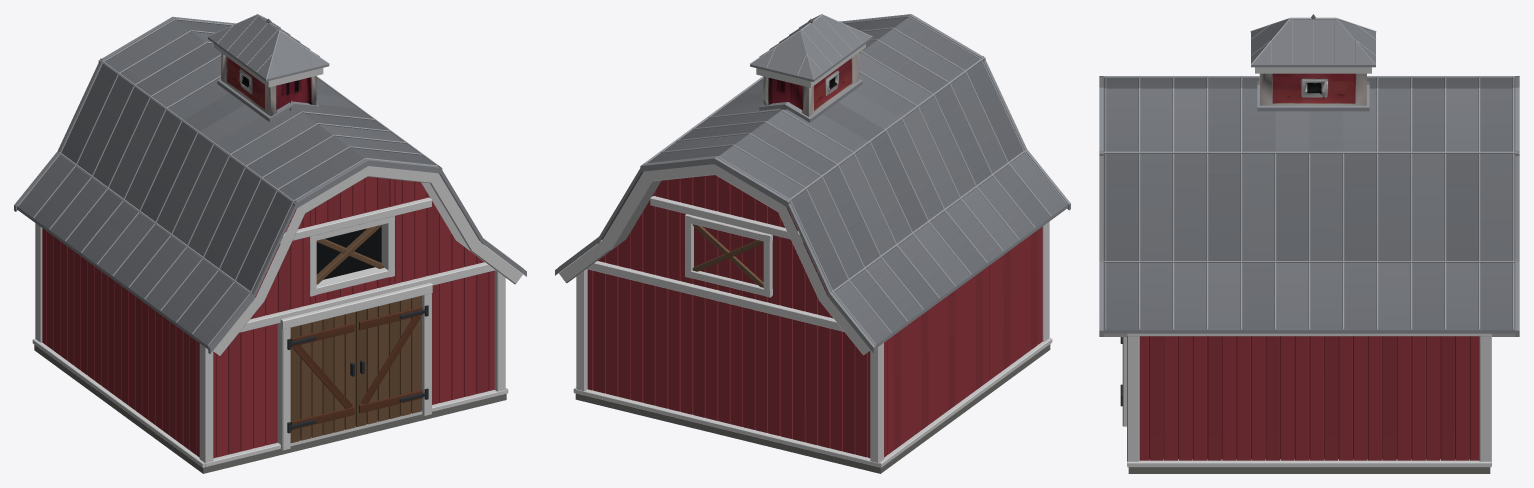
File: barn-crafted.glb
The picture shows the model from 3 angles, left to right: view 1: azimuth 30°, elevation 25°; view 2: azimuth 150°, elevation 25°; view 3: azimuth 270°, elevation 25°; orthographic projection. The views are drawn at different scales.
Visible parts, largest first — view 1: tripo_node_3dc78302-a13b-452d-b7ce-5348dfc06c05; view 2: tripo_node_3dc78302-a13b-452d-b7ce-5348dfc06c05; view 3: tripo_node_3dc78302-a13b-452d-b7ce-5348dfc06c05.
Boxes of the visible parts, x1,y1,x2,y2 form: tripo_node_3dc78302-a13b-452d-b7ce-5348dfc06c05: (14,14,526,473); tripo_node_3dc78302-a13b-452d-b7ce-5348dfc06c05: (555,14,1070,473); tripo_node_3dc78302-a13b-452d-b7ce-5348dfc06c05: (1099,14,1519,473).
Bounding box in the file's own units: 0.9318 × 0.9992 × 0.9992.
1 material, 1 textured.
